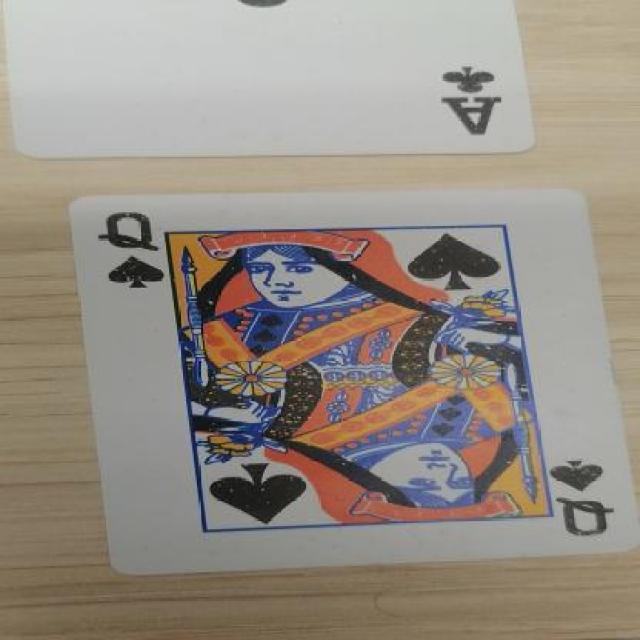QS: (81, 203, 182, 314), (516, 450, 630, 536)
